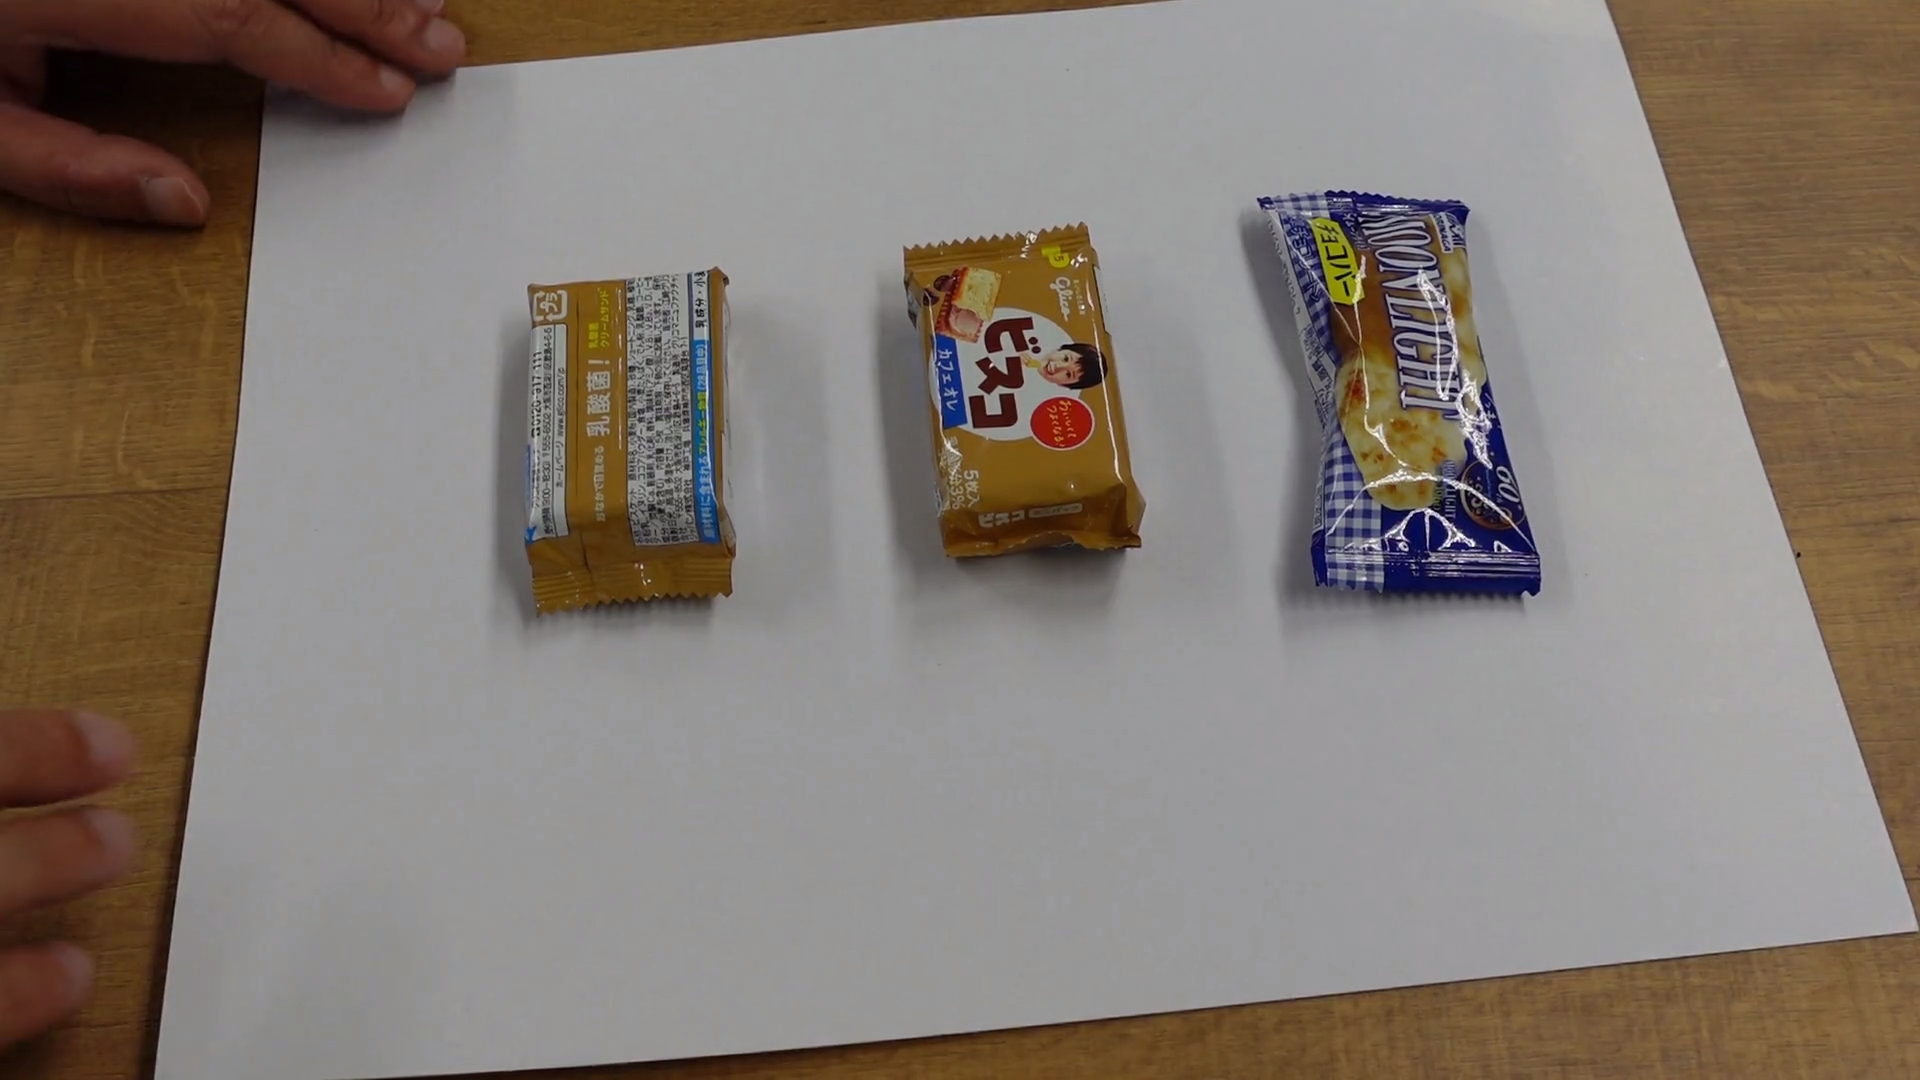BISCO_CafeAuLet: (909, 247, 1142, 564)
